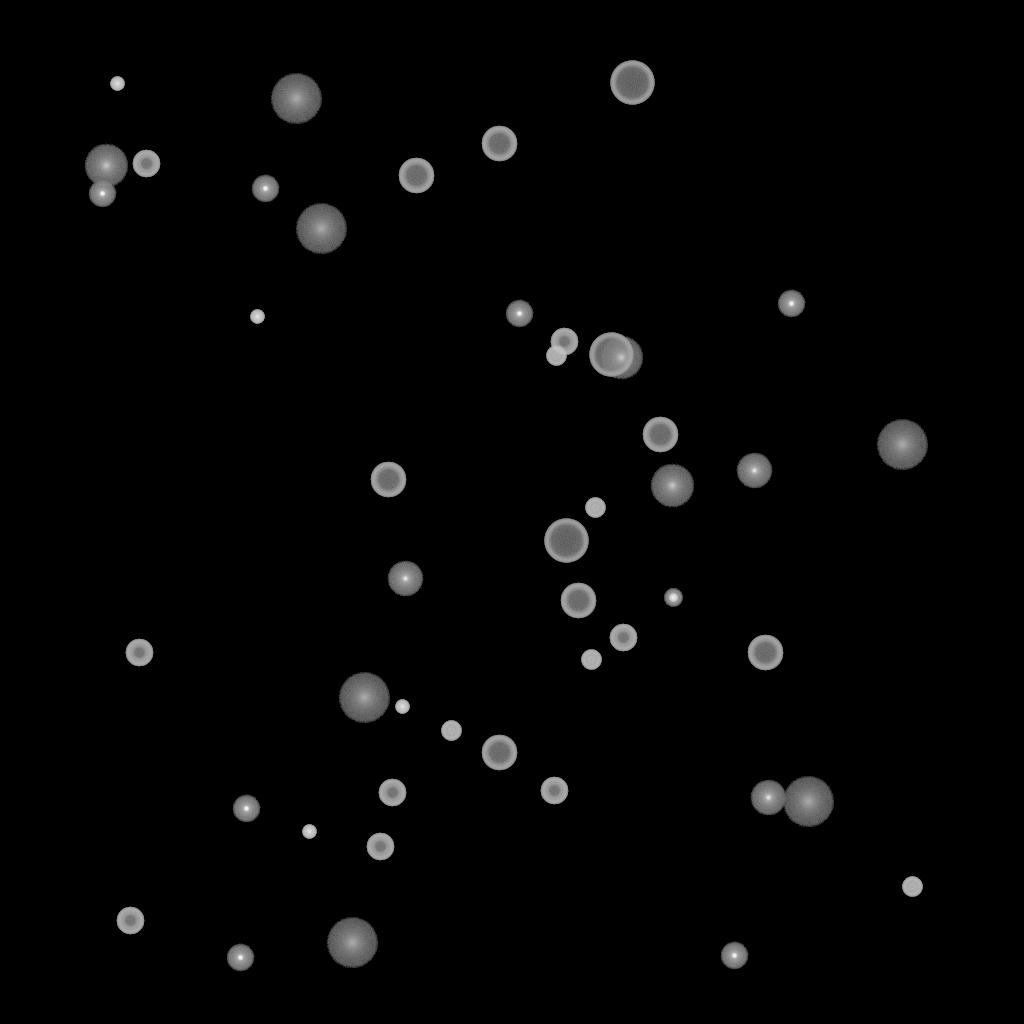depth:-10: (226, 944, 254, 972), (88, 180, 116, 208), (232, 795, 260, 823), (720, 942, 748, 970), (777, 290, 805, 318), (251, 175, 279, 203), (505, 300, 533, 328)
depth:-20: (664, 589, 682, 607)
depth:-30: (395, 700, 409, 714), (302, 825, 316, 839), (110, 77, 124, 91), (250, 310, 264, 324)
depth:-40: (585, 498, 605, 518), (441, 721, 461, 741), (902, 877, 922, 897), (546, 346, 566, 366), (581, 650, 601, 670)
depth:-50: (116, 907, 144, 935), (132, 150, 160, 178), (378, 779, 406, 807), (609, 624, 637, 652), (550, 328, 578, 356), (540, 777, 568, 805), (366, 833, 394, 861), (125, 639, 153, 667)
depth:-60: (560, 583, 596, 619), (398, 158, 434, 194), (642, 417, 678, 453), (481, 735, 517, 771), (481, 126, 517, 162), (747, 635, 783, 671), (370, 462, 406, 498)
depth:-70: (610, 61, 654, 105), (544, 519, 588, 563), (589, 333, 633, 377)
depth:0: (736, 453, 772, 489), (750, 780, 786, 816), (387, 561, 423, 597)
depth:10: (84, 144, 128, 188), (599, 336, 643, 380), (650, 464, 694, 508)
depth:20: (782, 777, 834, 827), (270, 74, 322, 124), (876, 420, 928, 470), (295, 204, 347, 254), (326, 918, 378, 968), (338, 673, 390, 723)
